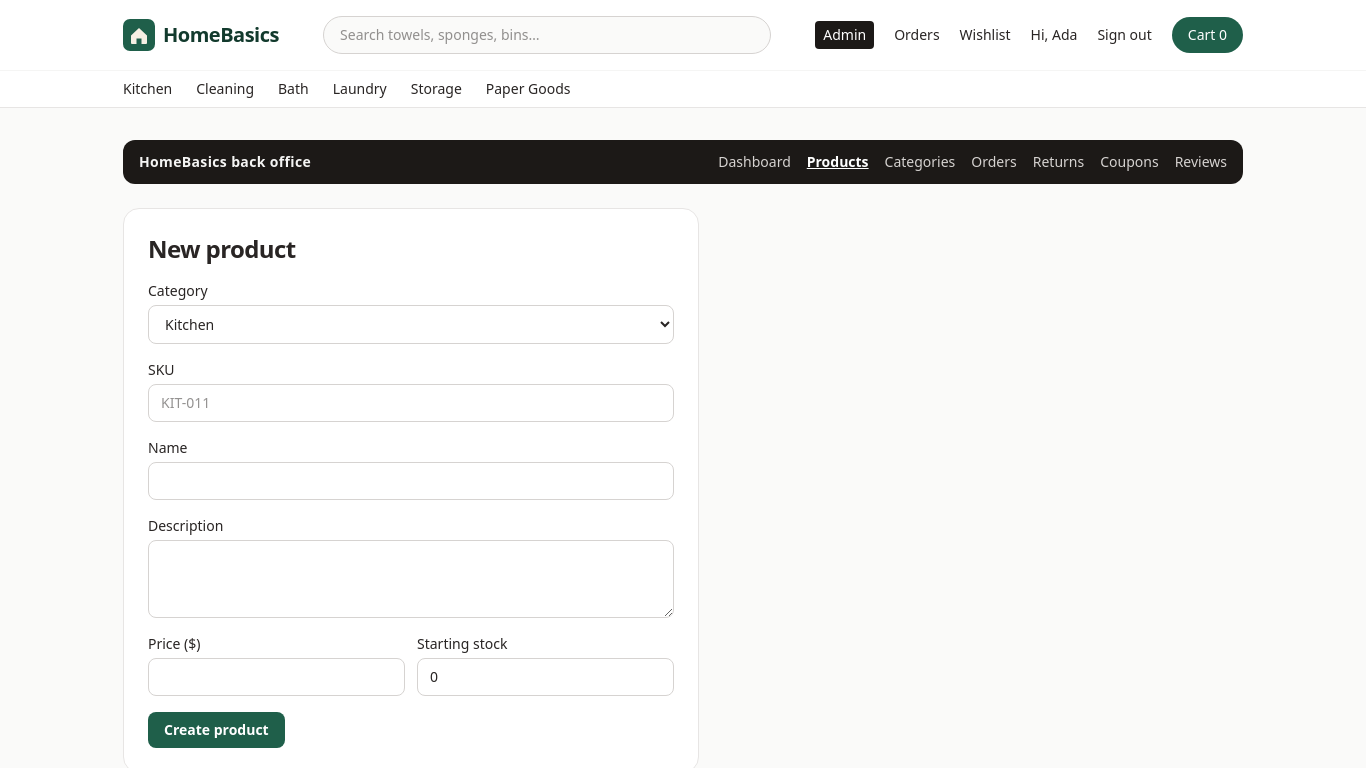
Test: admin products (ADM-01, ADM-02) › create sends the price in cents
Type "TST-001" into the field with test id "admin-product-sku".
click(411, 403); type("TST-001")  # box 148,384 -> 674,422
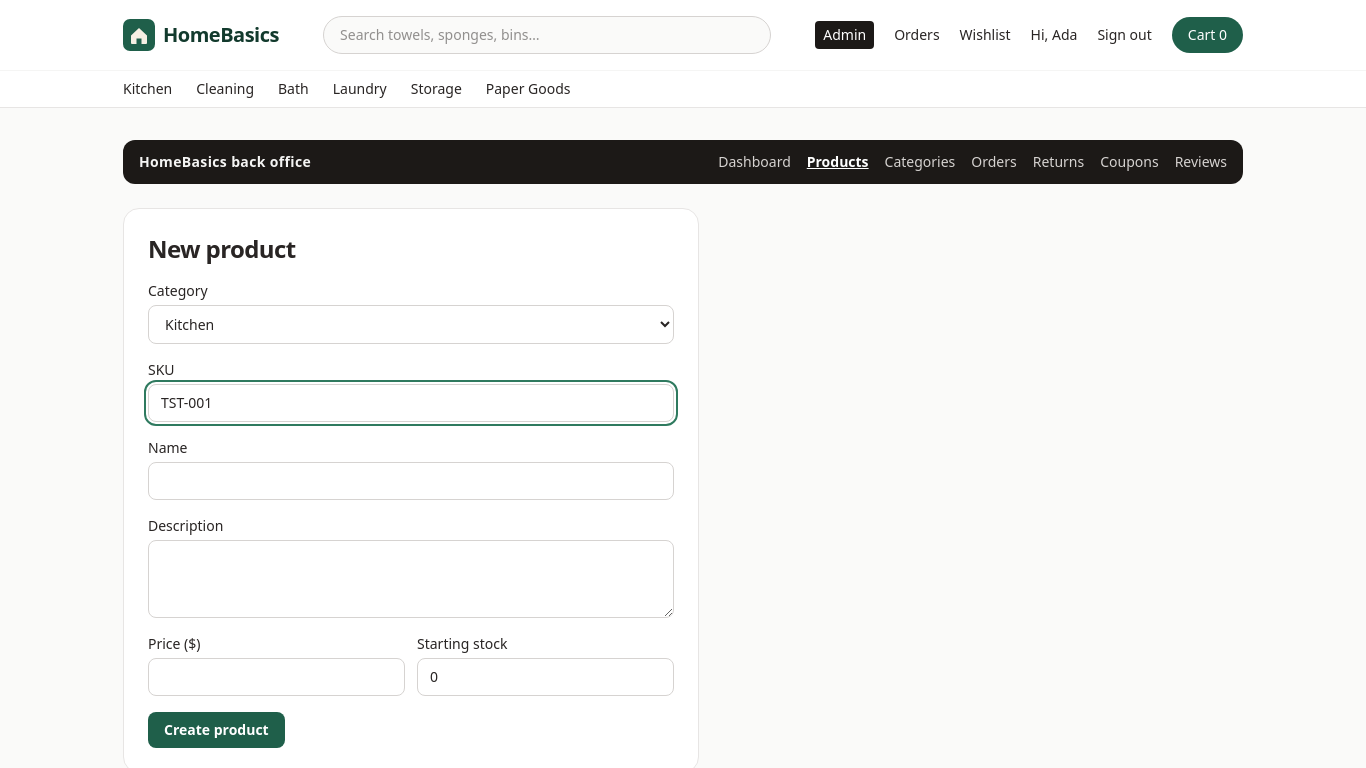
Type "Test Whisk" into the field with test id "admin-product-name".
click(411, 481); type("Test Whisk")  # box 148,462 -> 674,500
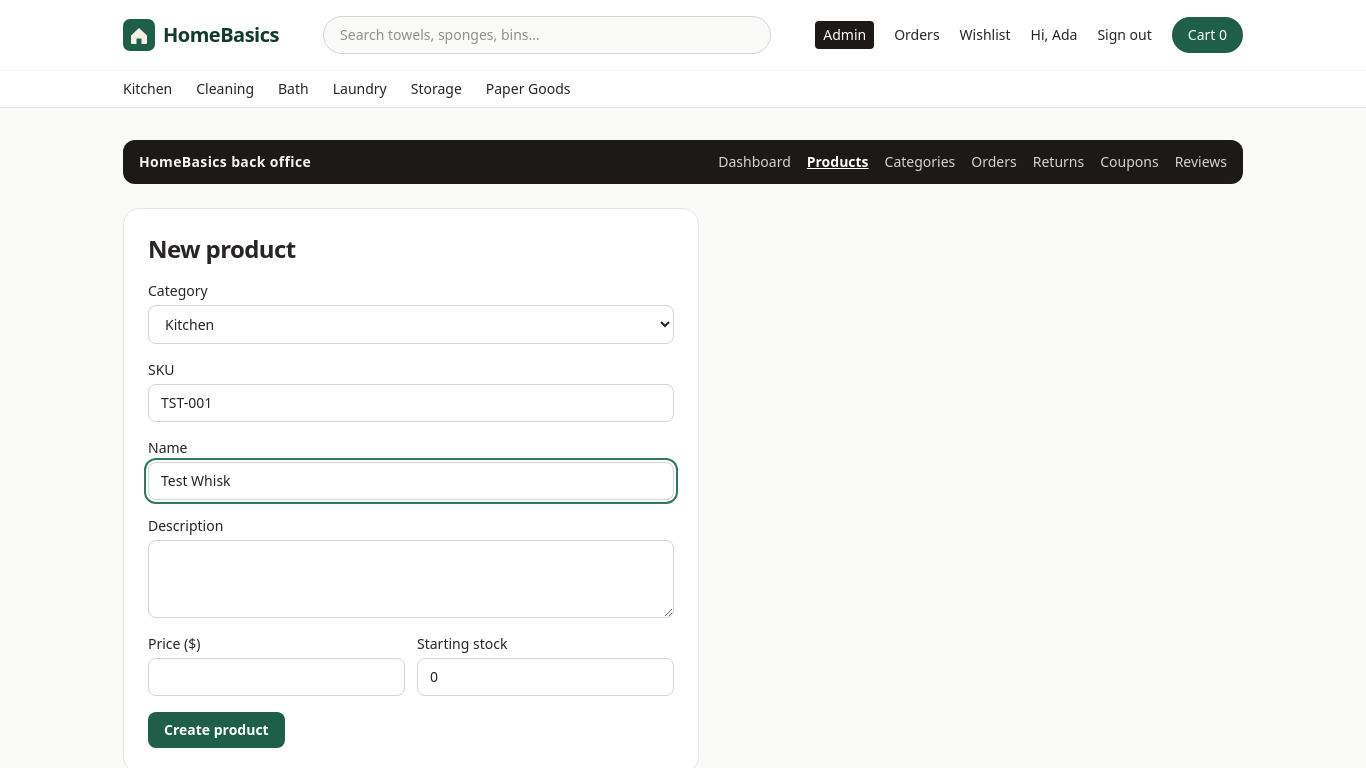
Type "8.99" into the field with test id "admin-product-price".
click(276, 677); type("8.99")  # box 148,658 -> 405,696
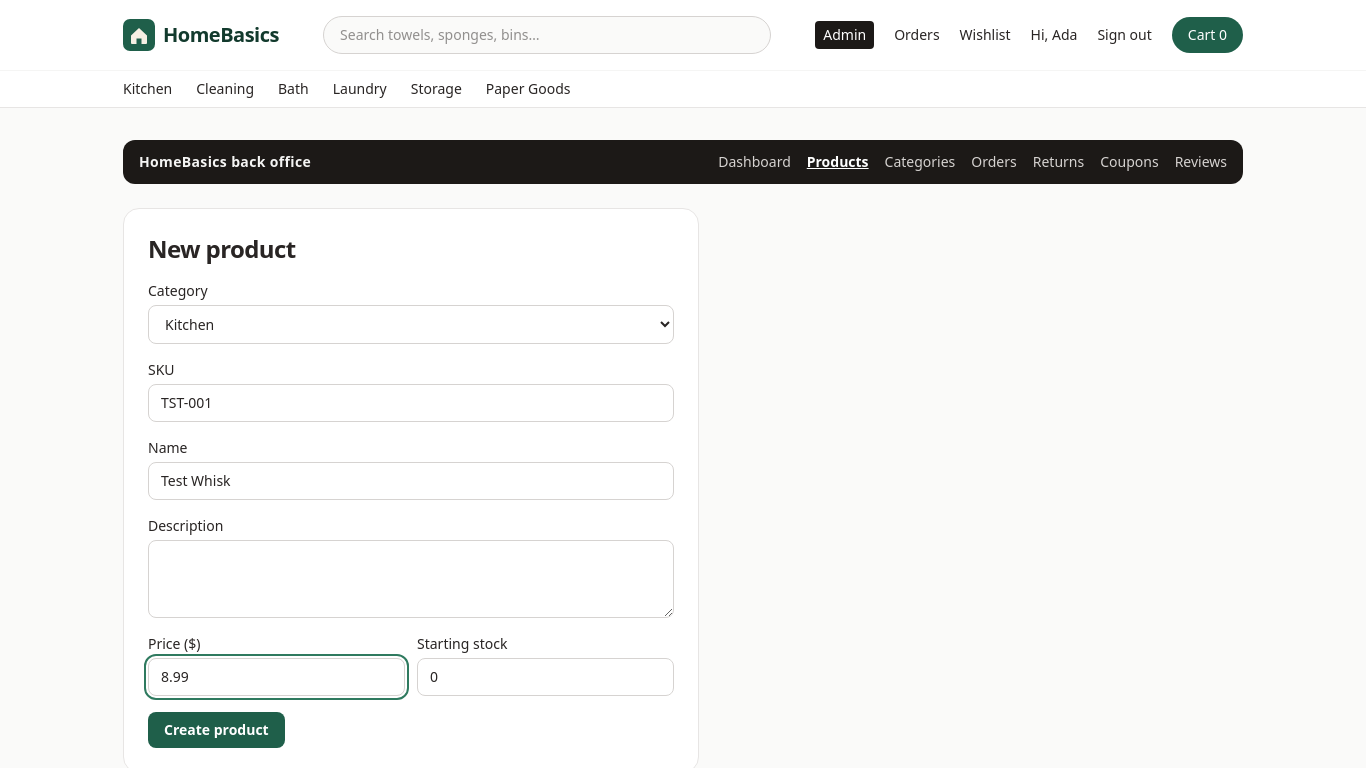
Replace the text in the number field with test id "admin-product-stock-input" with "5" at (546, 677), box 417,658 -> 674,696
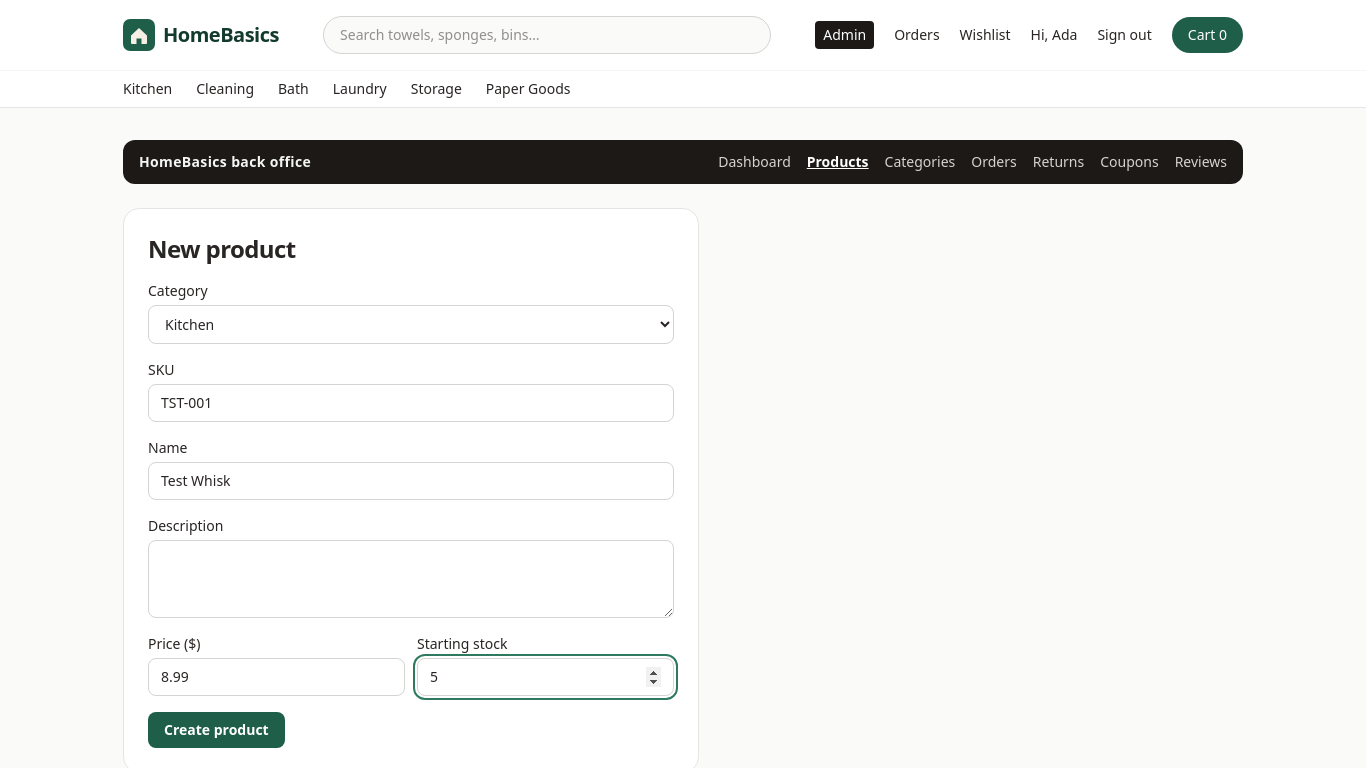
Click the button with test id "admin-product-save".
click(216, 730)  # box 148,712 -> 285,748
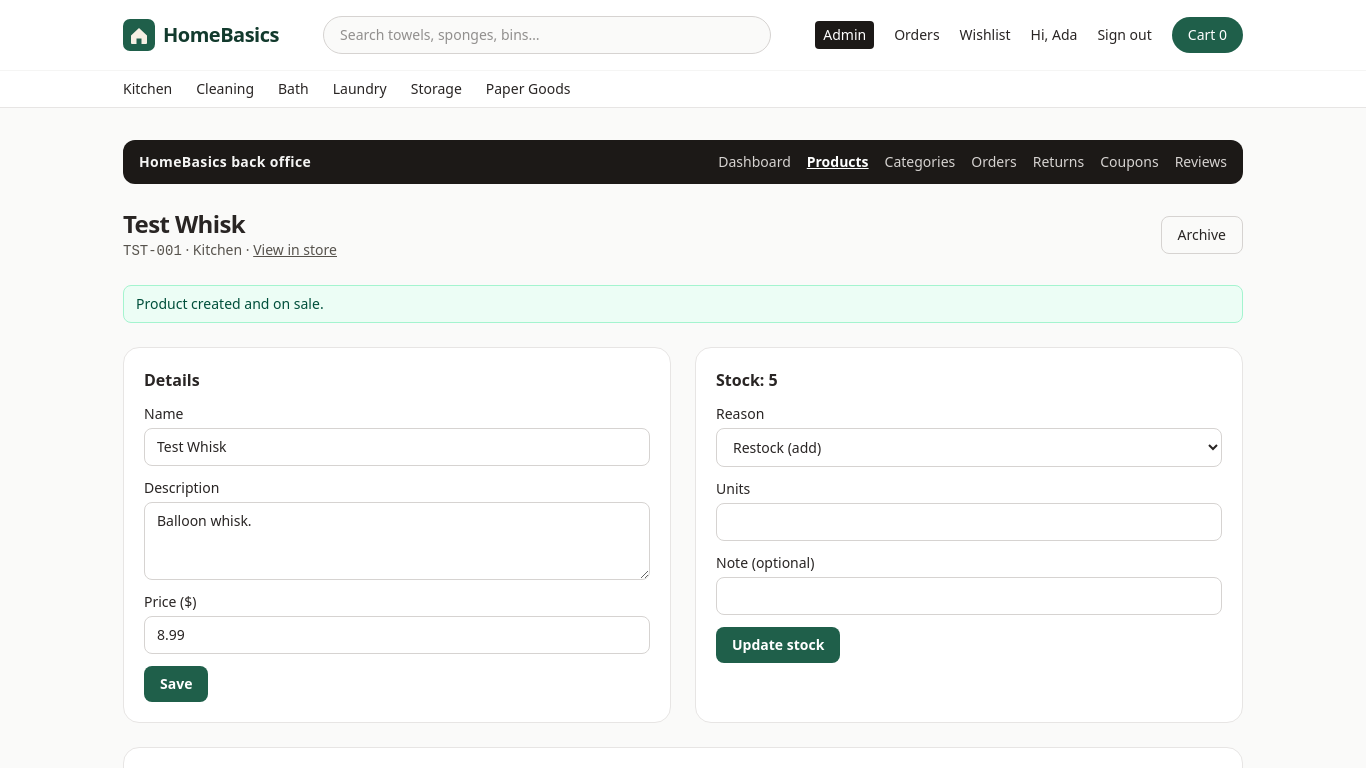
Check: the message with test id "admin-notice" reads "Product created and on sale.", box 136,294 -> 324,313
